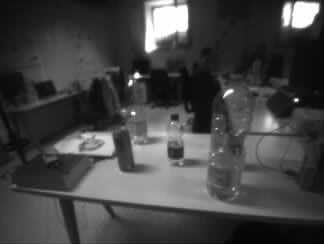Bottle: (211, 77, 249, 200), (128, 83, 146, 142), (167, 114, 183, 166)
Tin can: (110, 130, 134, 172)
